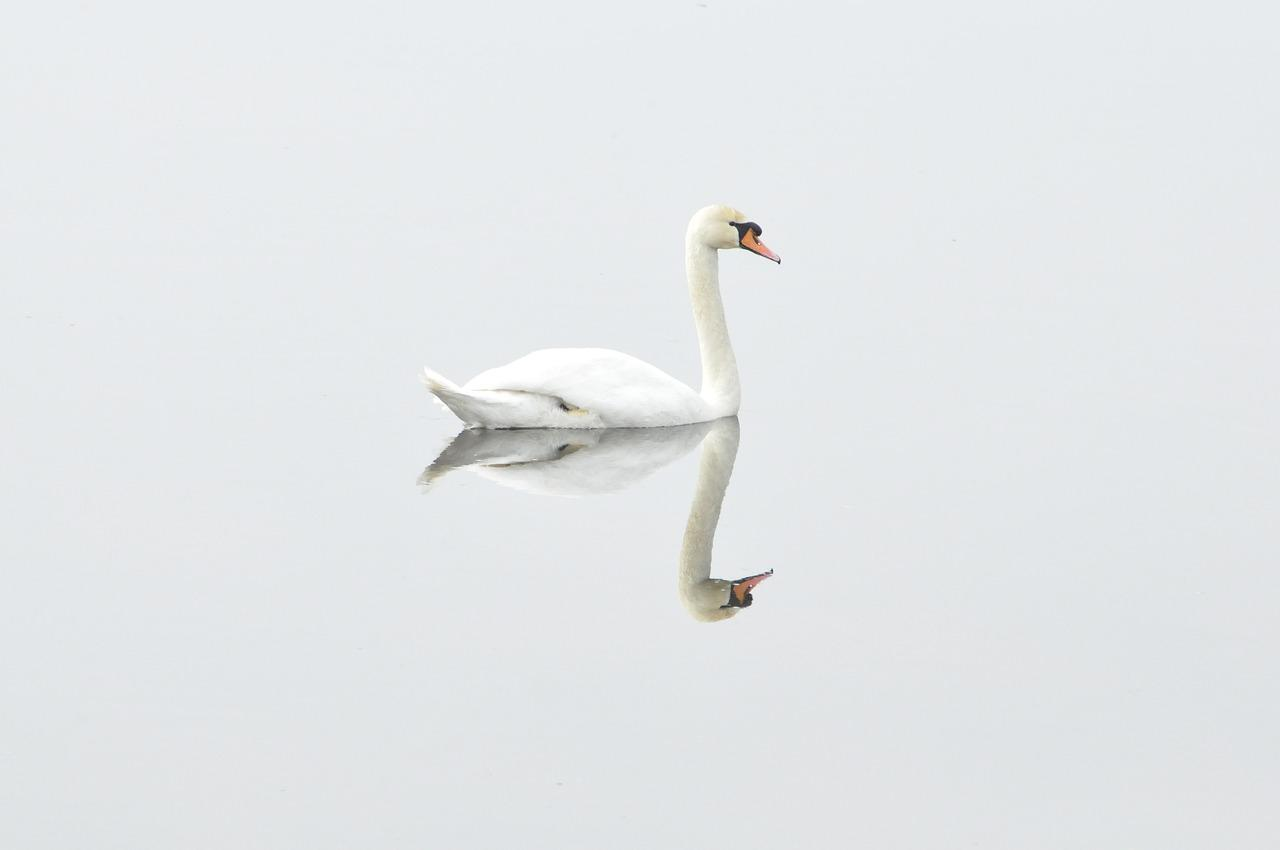bird: (427, 206, 779, 430)
